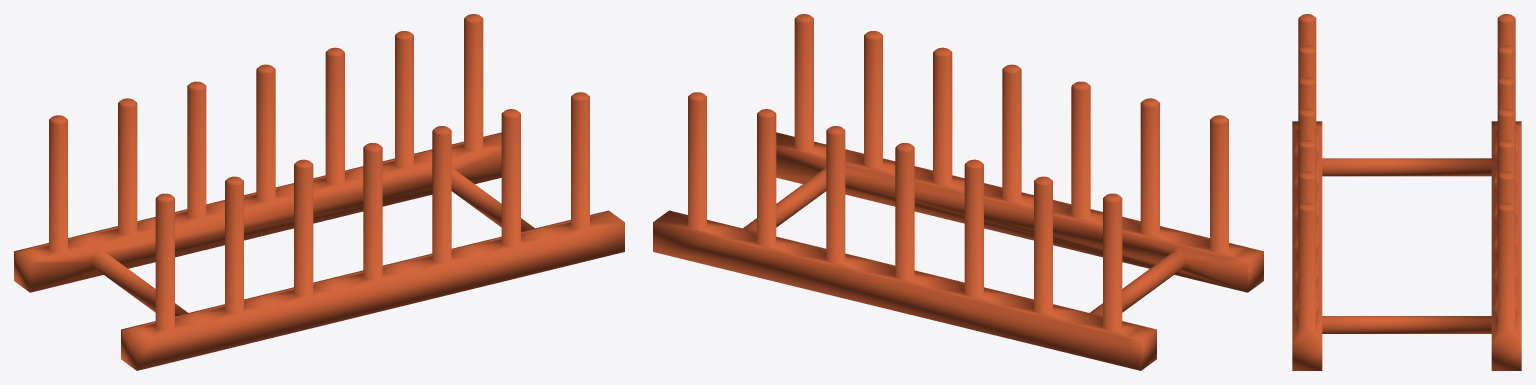
3 views of the same model, side by side, from view 1: azimuth 30°, elevation 25°; view 2: azimuth 150°, elevation 25°; view 3: azimuth 270°, elevation 25° (orthographic). The views are drawn at different scales.
Bounding box in the file's own units: 0.275 × 0.086 × 0.12.
